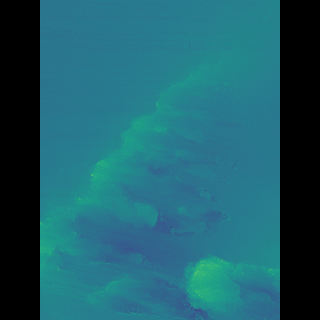Loch: (67, 56, 241, 320)
